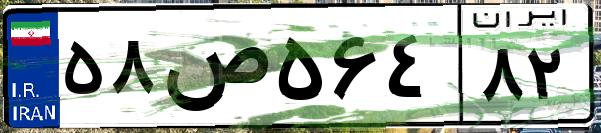2: (525, 38, 570, 115)
4: (385, 28, 445, 110)
5: (270, 28, 330, 110), (57, 26, 110, 100)
6: (330, 28, 385, 110)
8: (475, 38, 525, 113), (110, 28, 158, 98)
ص: (158, 20, 270, 120)
